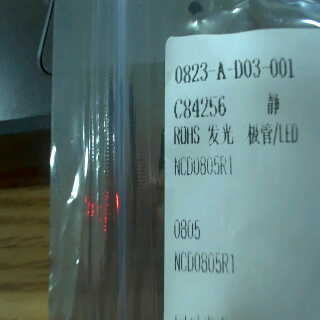LED: (209, 119, 301, 142)
